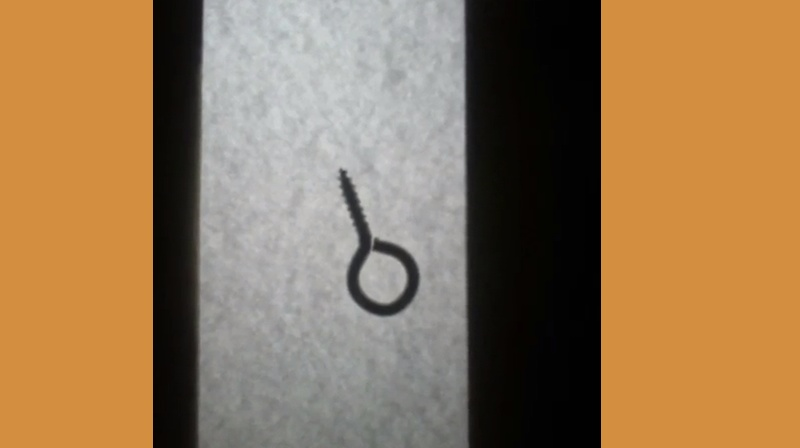O001: (333, 163, 422, 319)
